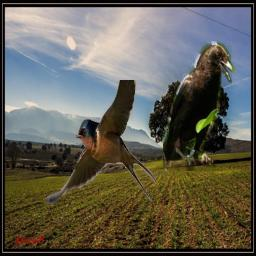Crow: (163, 41, 235, 171)
Swallow: (44, 80, 156, 210)
